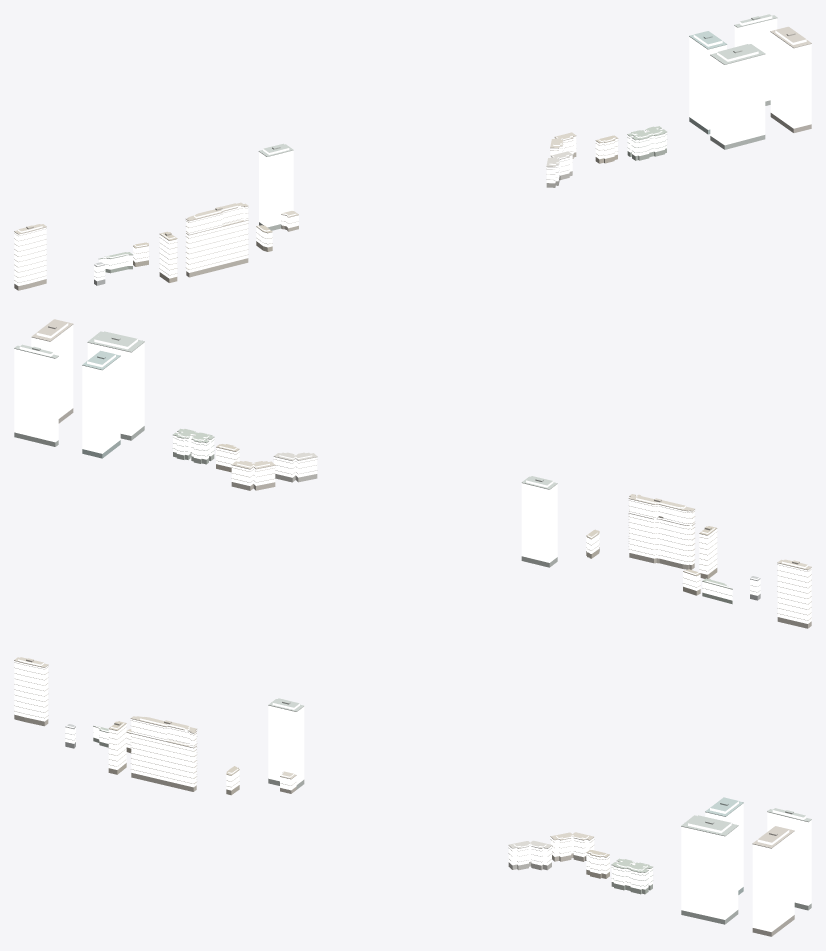
File: buildings-2_4-fine.glb
3 renders of one model, top to bottom at view 1: azimuth 30°, elevation 25°; view 2: azimuth 150°, elevation 25°; view 3: azimuth 330°, elevation 25°, orthographic. The views are drawn at different scales.
Parts seen in each view (by area): view 1: block_2_4_office, block_2_4_residential, block_2_4_roof, block_2_4_darkglass, block_2_4_concrete; view 2: block_2_4_office, block_2_4_residential, block_2_4_roof, block_2_4_darkglass, block_2_4_concrete; view 3: block_2_4_office, block_2_4_residential, block_2_4_roof, block_2_4_darkglass, block_2_4_concrete.
Part boxes in pixels (x1,y1,x2,y2): block_2_4_office: (259,16,811,227); block_2_4_residential: (14,128,666,285); block_2_4_roof: (14,14,811,282); block_2_4_darkglass: (14,100,811,290); block_2_4_concrete: (14,128,666,282); block_2_4_office: (14,323,557,562); block_2_4_residential: (173,431,811,623); block_2_4_roof: (14,319,811,620); block_2_4_darkglass: (14,408,811,628); block_2_4_concrete: (173,431,811,620); block_2_4_office: (268,703,811,931); block_2_4_residential: (14,659,652,889); block_2_4_roof: (14,657,811,916); block_2_4_darkglass: (14,714,811,936); block_2_4_concrete: (14,660,652,886).
Size of the model in its own units: 612 by 68.47 by 53.7.
